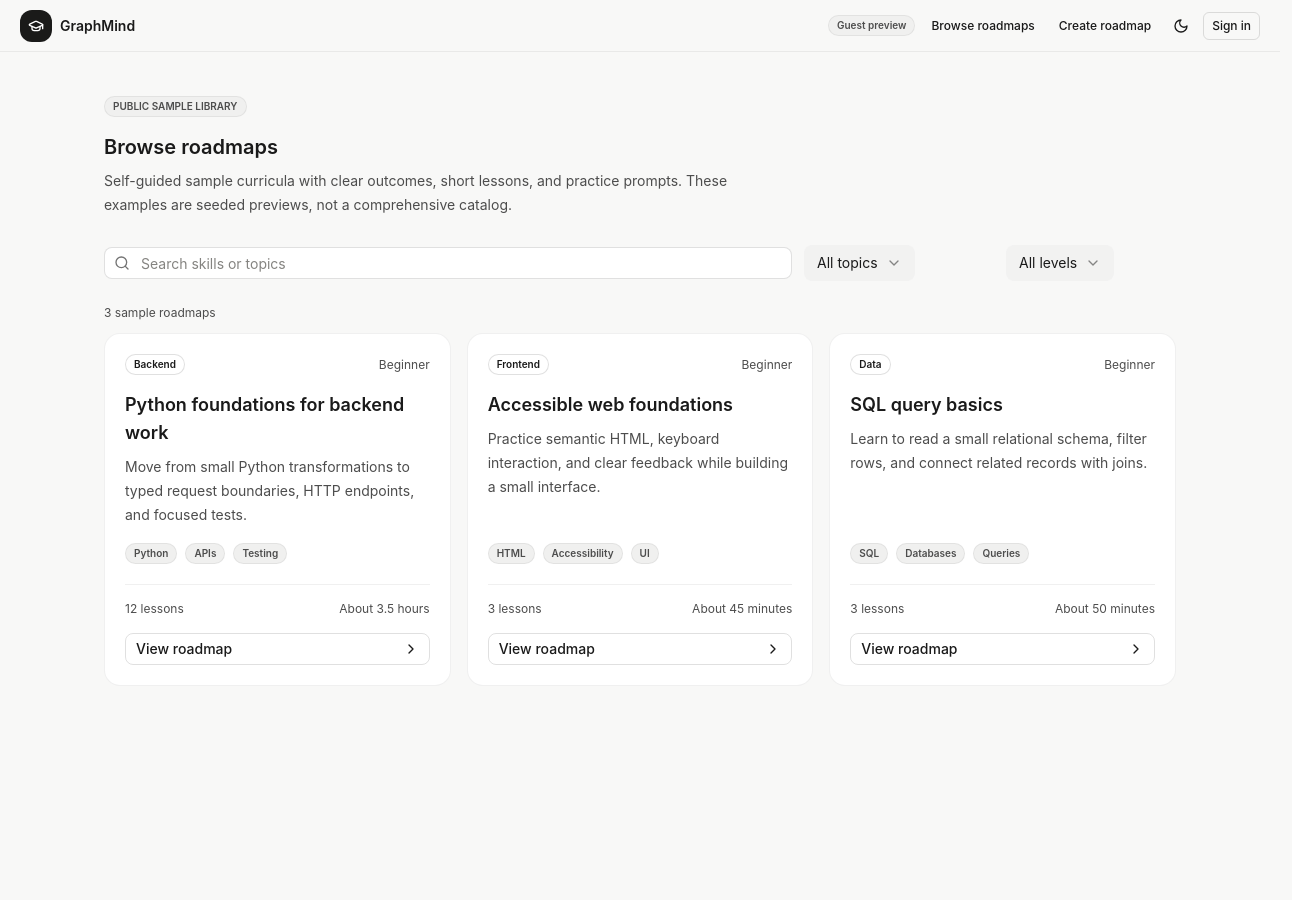
it: public-to-learner journeys › lets a guest browse and read a public lesson without opening the sign-in gate
This screenshot has width=1292, height=900.
Step 1. Click the button "View roadmap" below "12" → (184, 648), box 125,633 -> 430,665
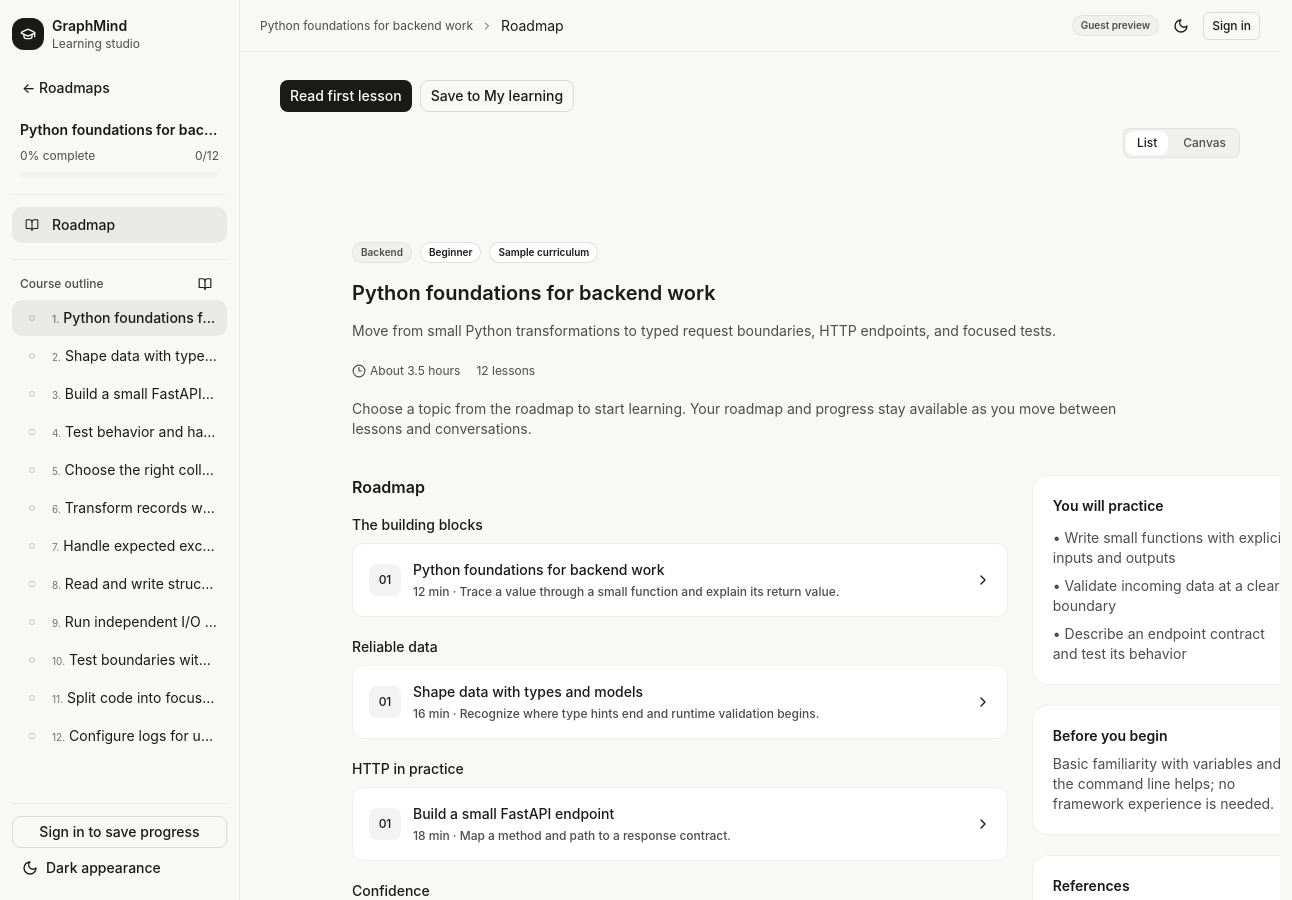
Step 2. Click the button "Read first lesson" → (346, 96), box 280,80 -> 412,112
(page scrolled)
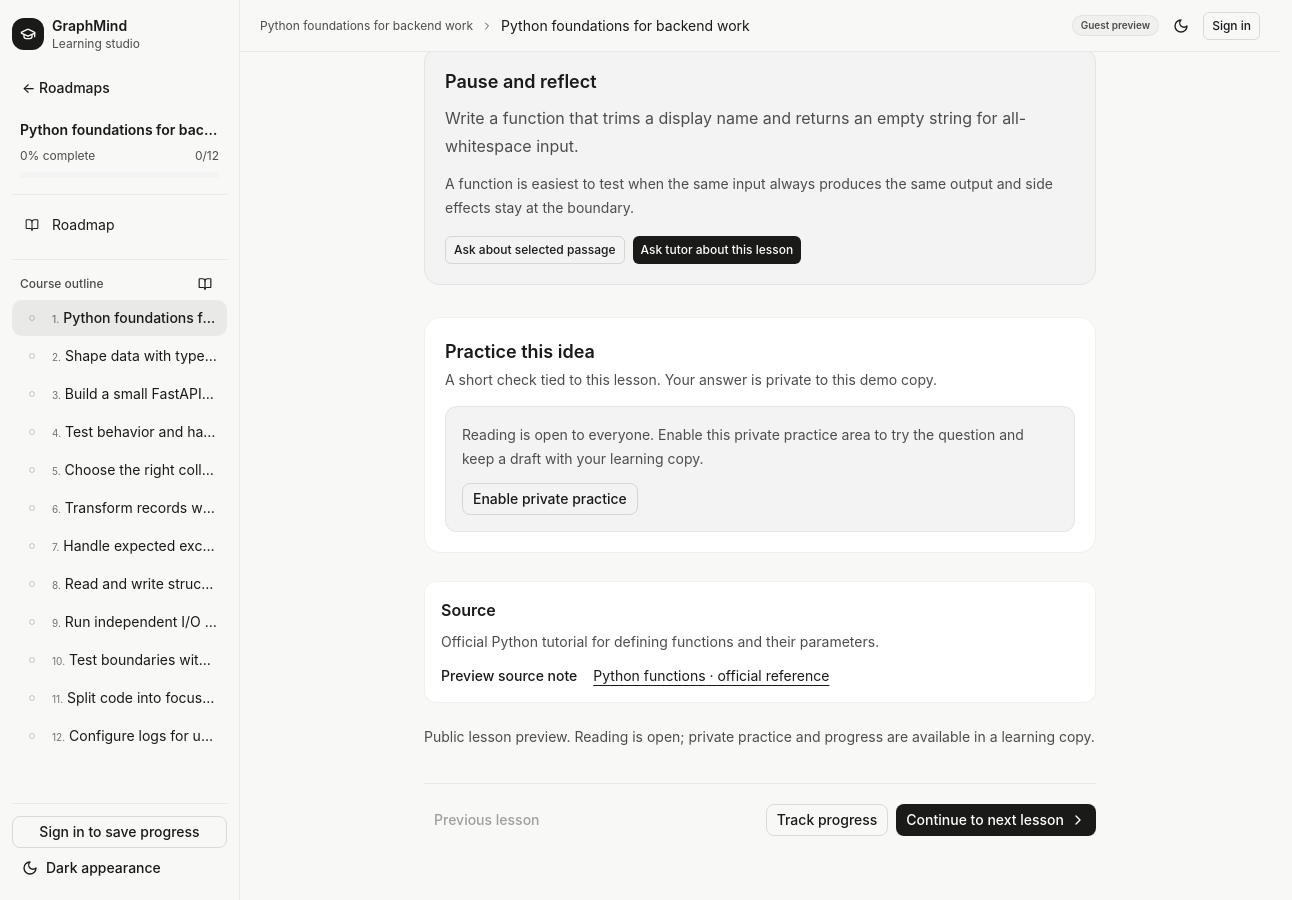
expect the text "Public lesson preview" is shown: met, box 424,728 -> 1095,745
